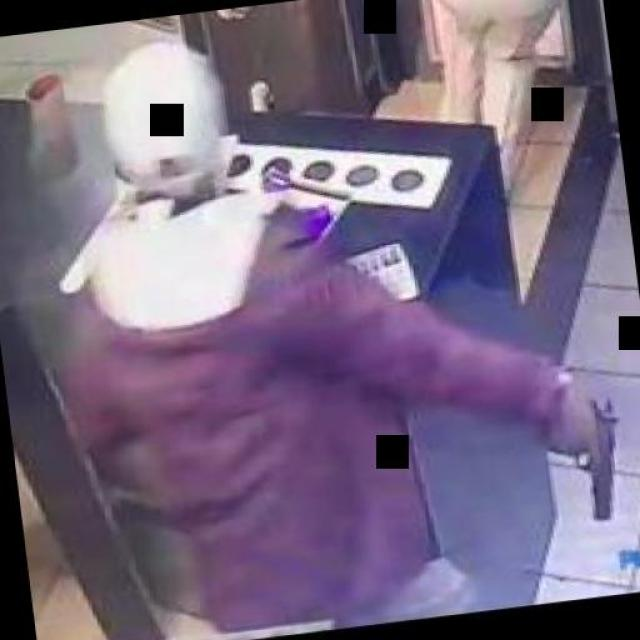gun: (534, 388, 628, 526)
